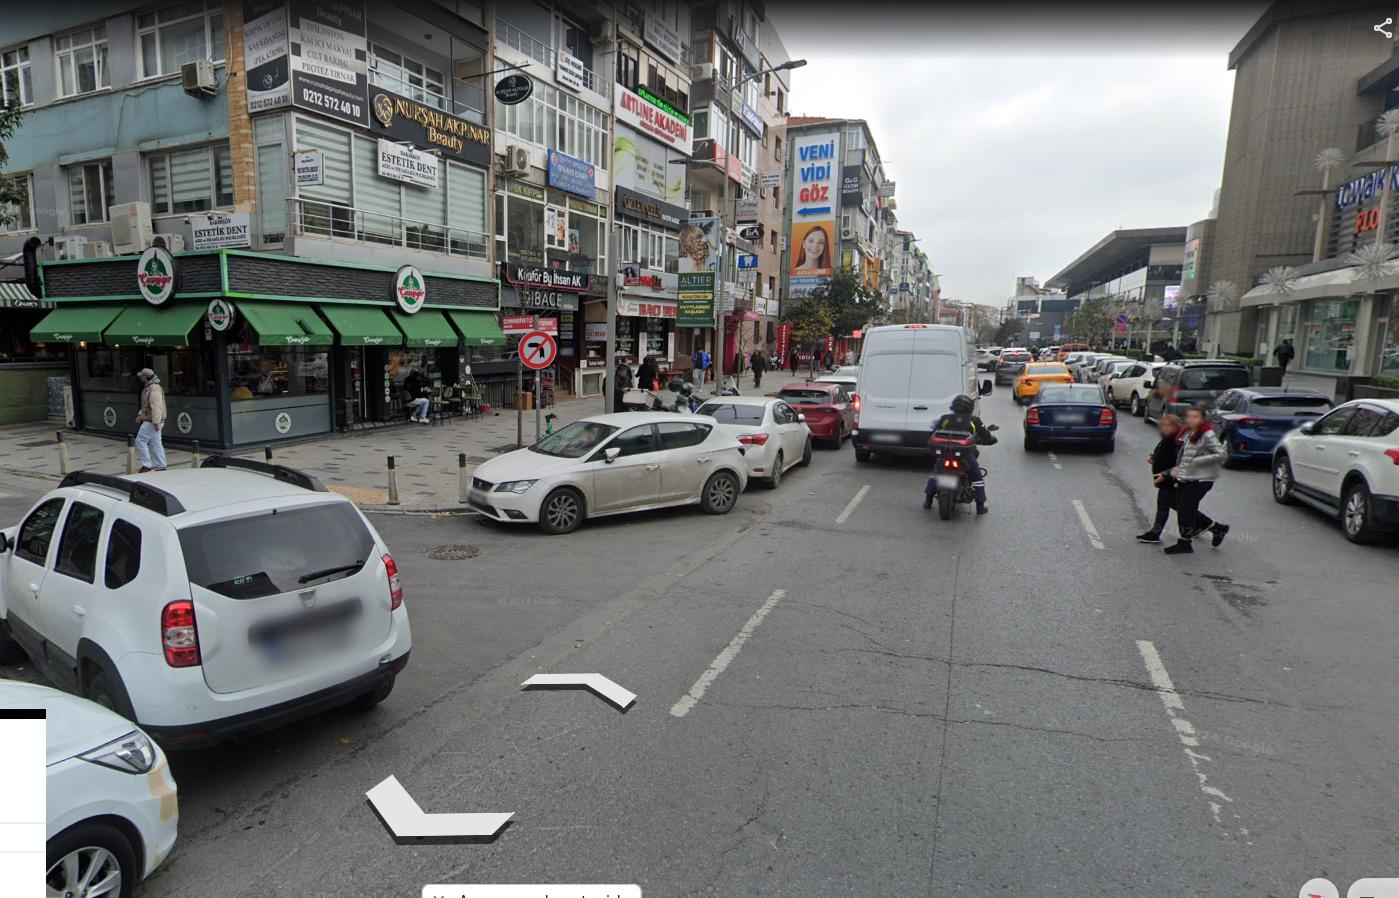leftturnsareforbidden: (520, 333, 555, 370)
